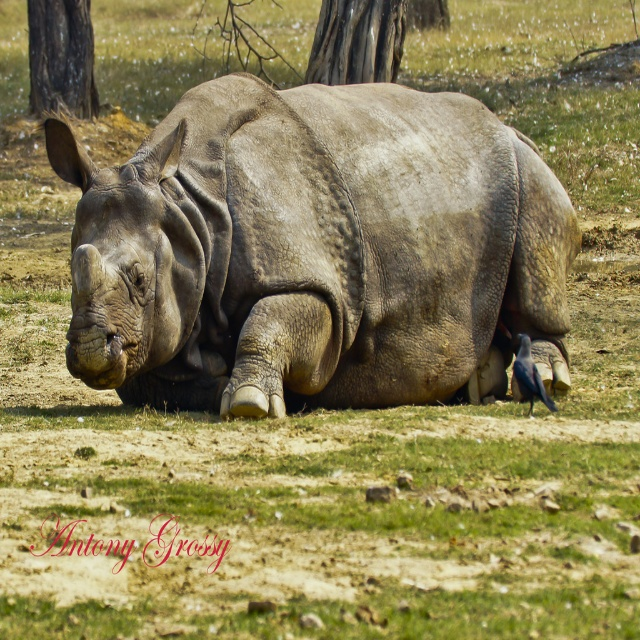Rhinoceros: (40, 64, 590, 425)
